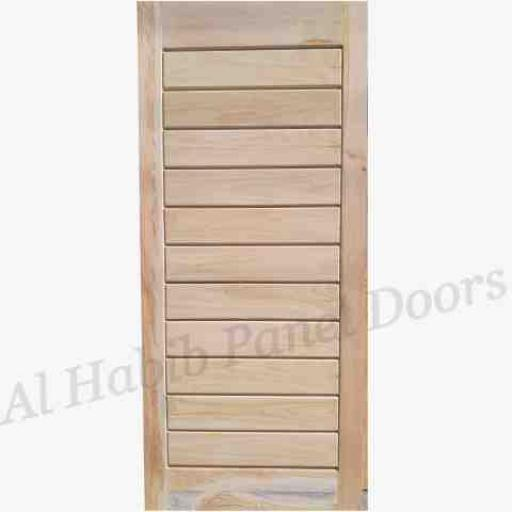child: (135, 0, 370, 512)
